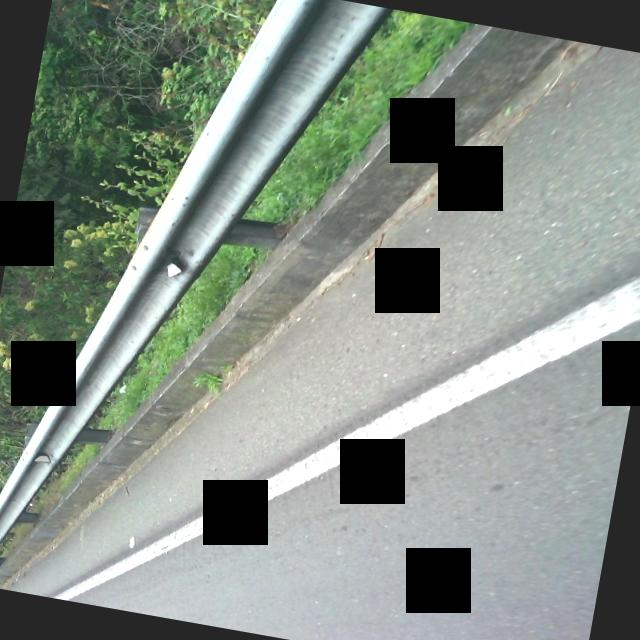DITCH: (0, 0, 640, 640), (38, 0, 640, 640)
